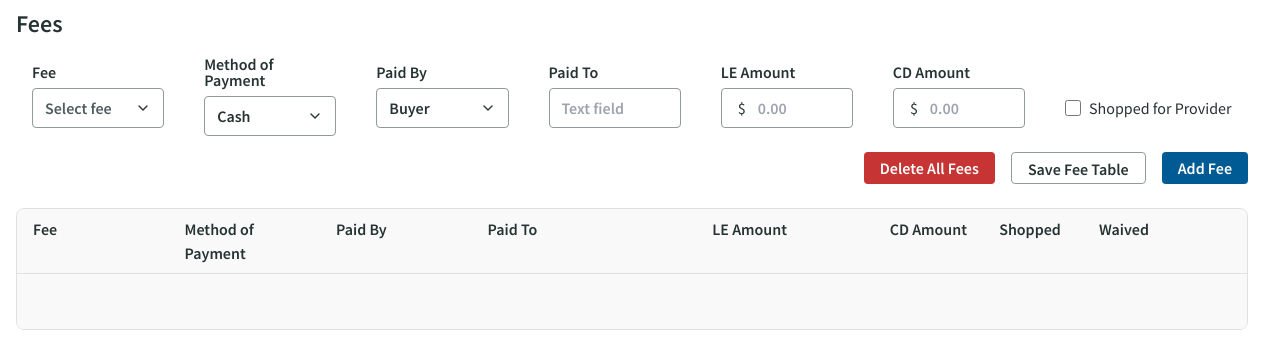
Test case: FeesContent › reports persistence errors honestly
The image size is (1265, 347).
Click the button with test id "button-save-fee-table": [1078, 168] box [1011,152,1146,184]
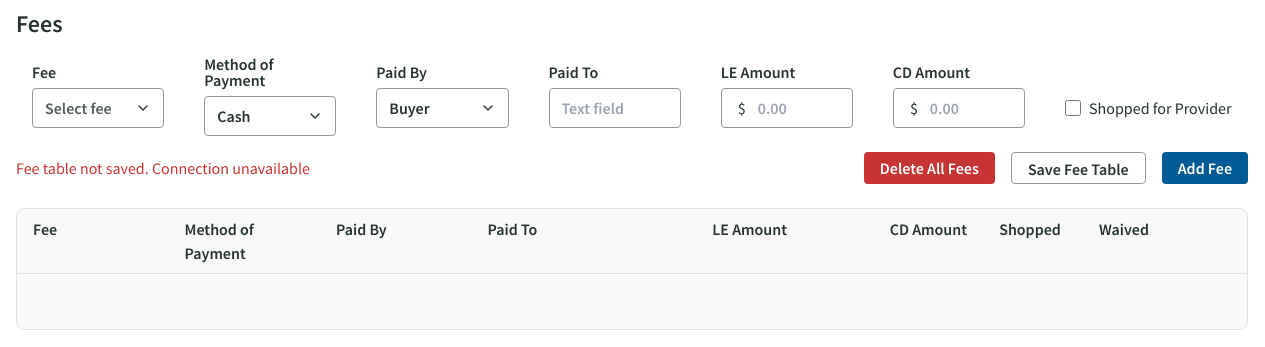
Check: the message reads "Fee table not saved. Connection unavailable", box [16,158,310,178]
